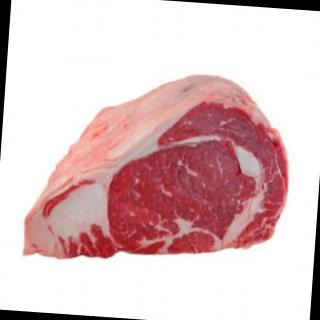Daging Sapi: (23, 65, 297, 275)
